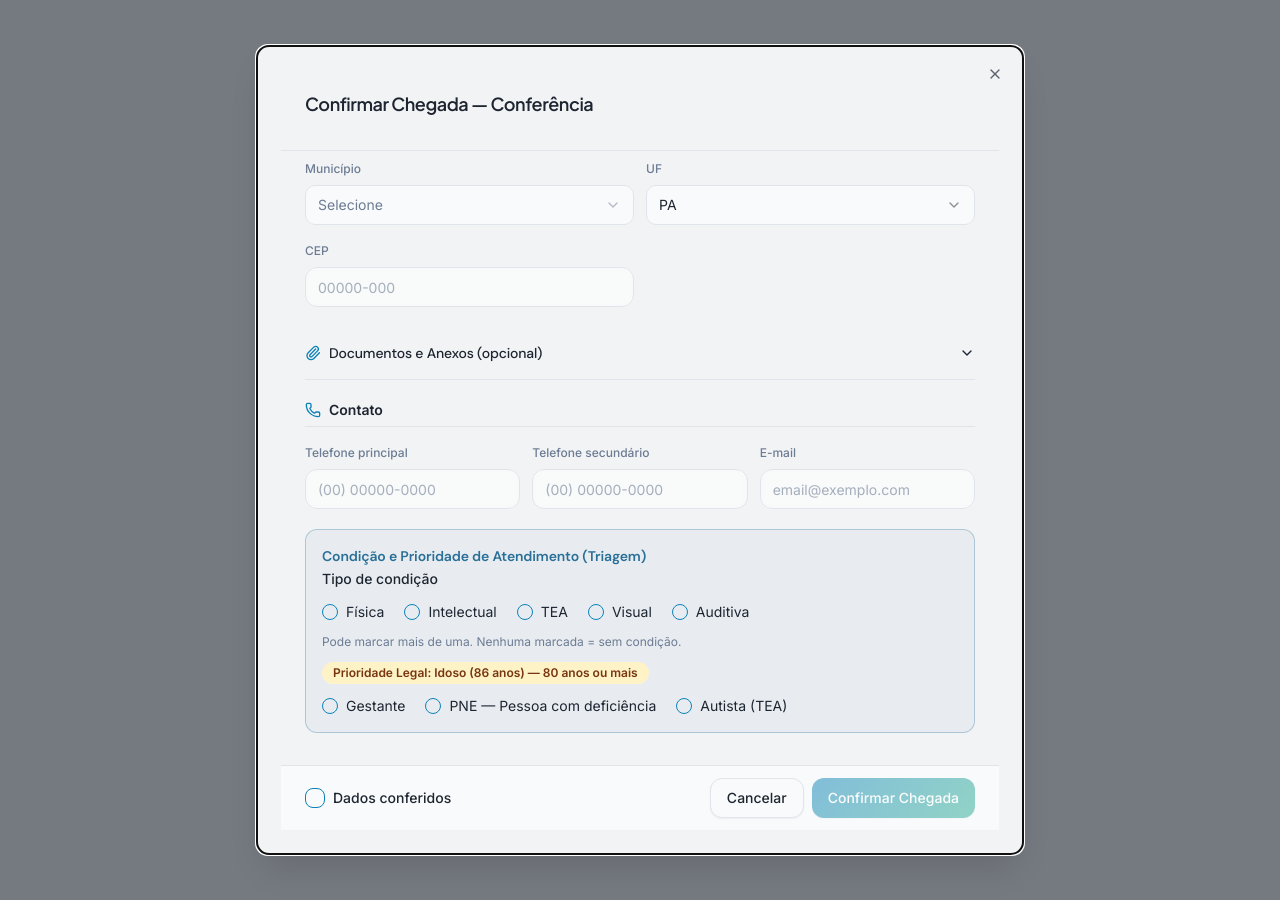
conferência de chegada e prioridades › não confirma nem fecha quando o salvamento falha
The image size is (1280, 900).
(page scrolled)
Click the checkbox named "Gestante" next to "Gestante" at (330, 706), box top-left (322, 698), bottom-right (338, 714)
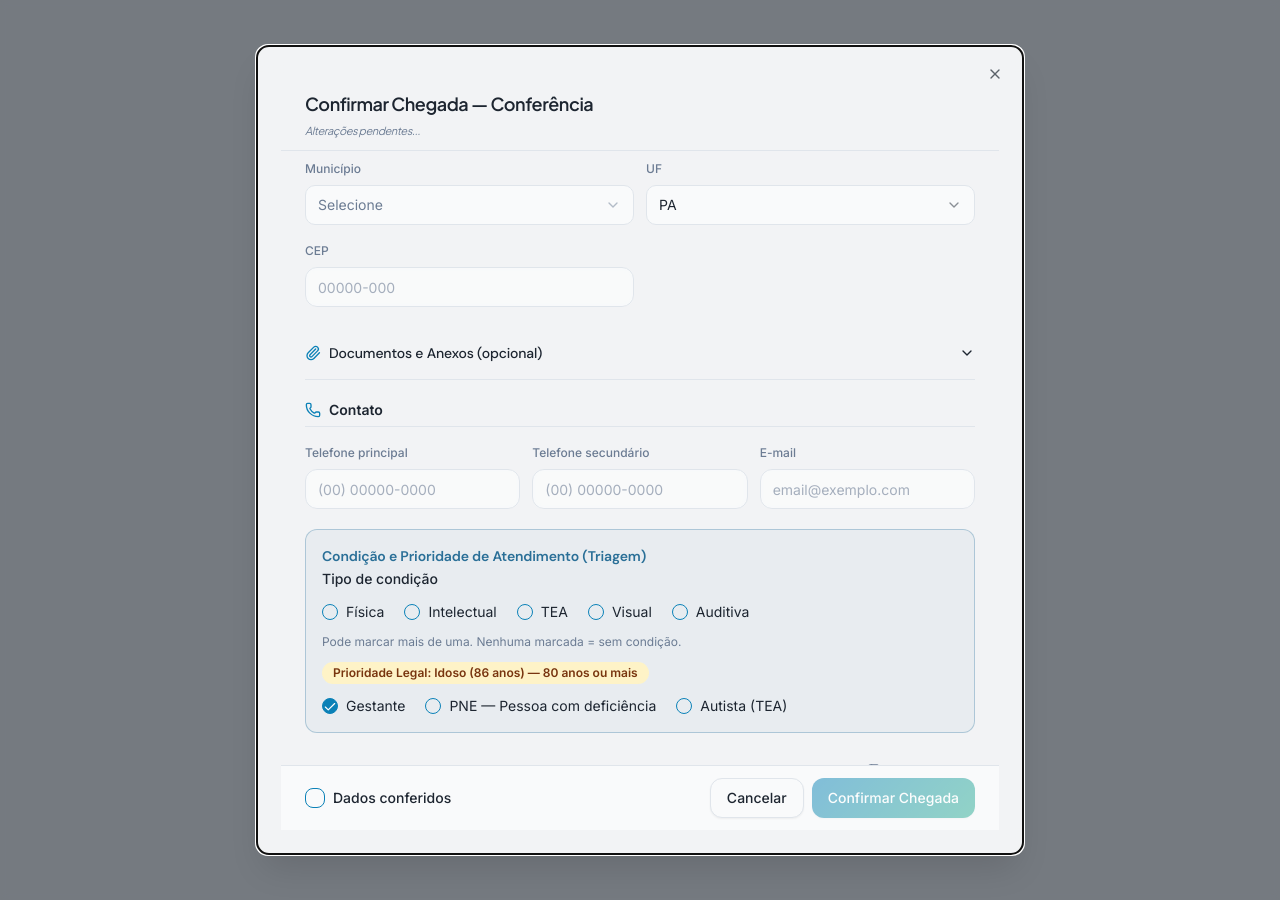
Click the checkbox named "Dados conferidos" next to "Dados conferidos" at (315, 798), box top-left (305, 788), bottom-right (325, 808)
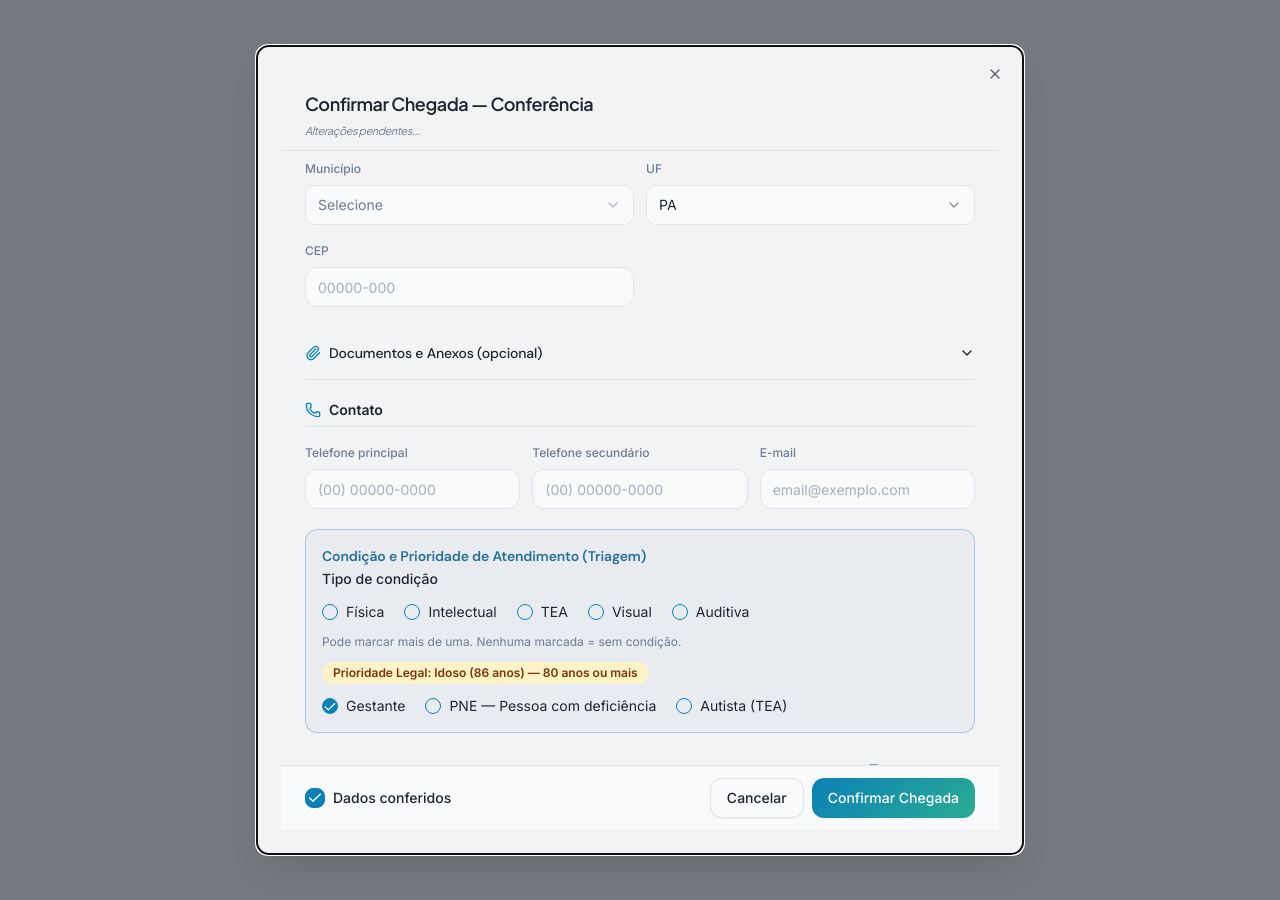
Click the button "Confirmar Chegada" at (893, 798), box top-left (812, 778), bottom-right (975, 818)
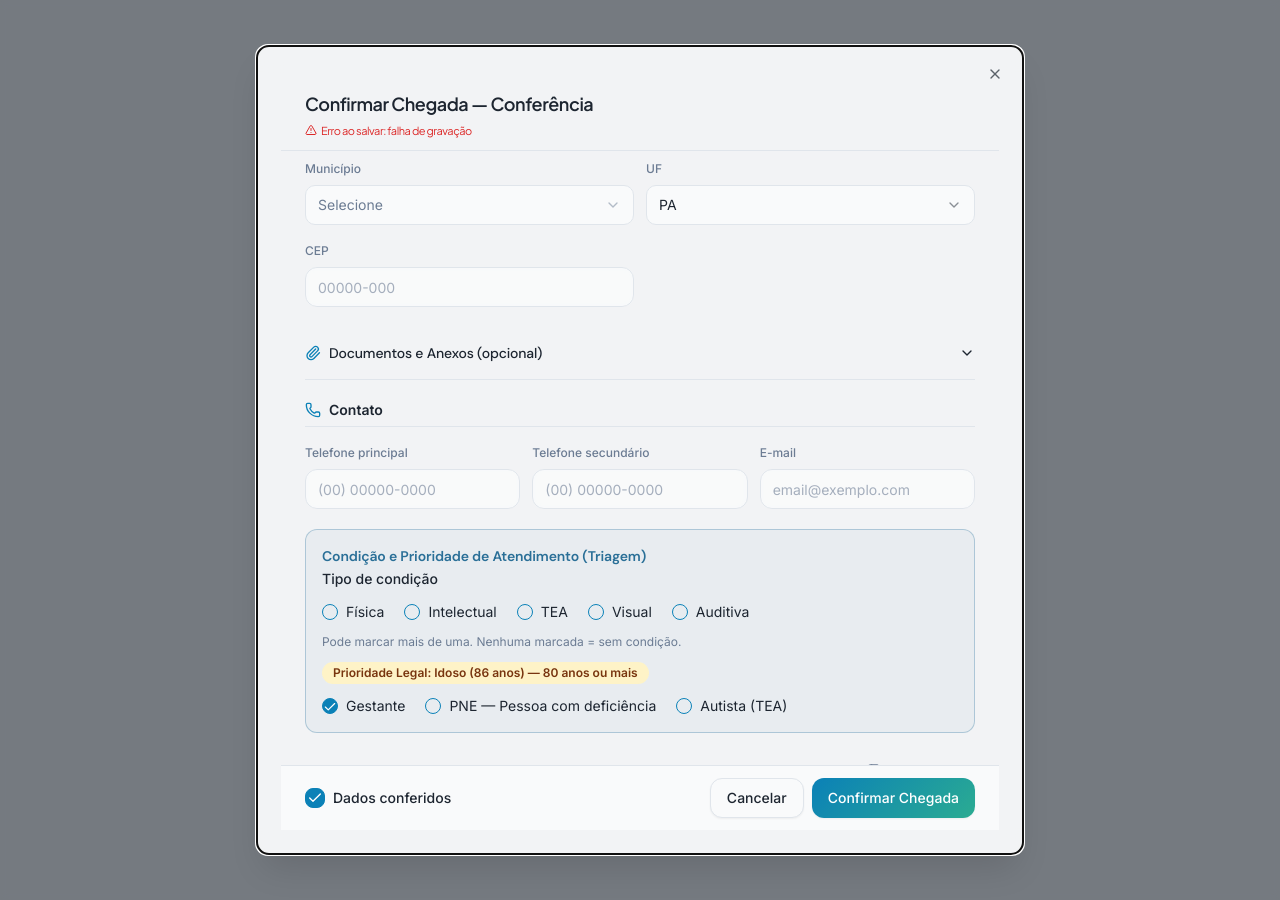
Expected: the dialog is shown, top-left (256, 45), bottom-right (1024, 855)
Expected: the text "Erro ao salvar: falha de gravação" is shown, top-left (305, 124), bottom-right (472, 136)
